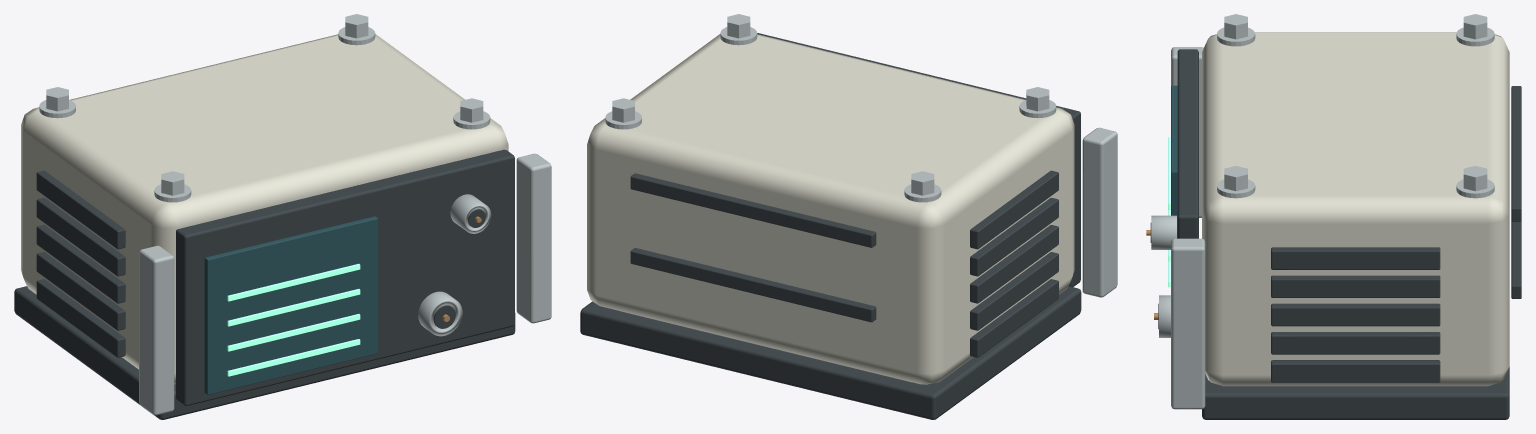
The model's file is broadcast-tower-and-relay-station-broadcast-tower-and--8f1b86fc__30264.glb.
3 views of the same model, side by side, from view 1: azimuth 30°, elevation 25°; view 2: azimuth 150°, elevation 25°; view 3: azimuth 270°, elevation 25° (orthographic). The views are drawn at different scales.
Parts seen in each view (by area): view 1: broadcast-tower-and-relay-station-monitor-receiver; view 2: broadcast-tower-and-relay-station-monitor-receiver; view 3: broadcast-tower-and-relay-station-monitor-receiver.
Boxes of the visible parts, x1,y1,x2,y2 form: broadcast-tower-and-relay-station-monitor-receiver: [14, 14, 551, 419]; broadcast-tower-and-relay-station-monitor-receiver: [580, 14, 1117, 419]; broadcast-tower-and-relay-station-monitor-receiver: [1146, 14, 1521, 419].
Bounding box in the file's own units: 0.56 × 0.304 × 0.439.
